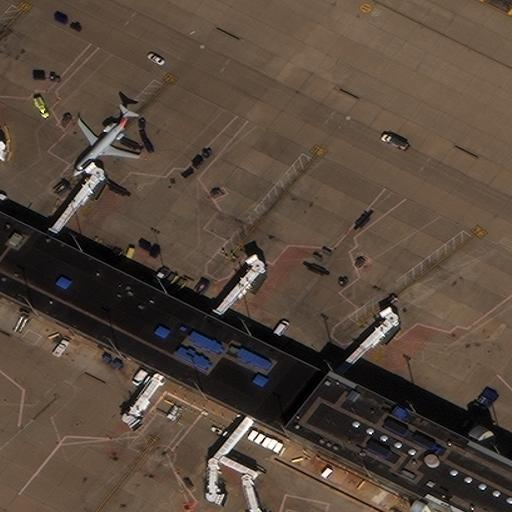Medium Civil Transport: (71, 110, 139, 177)
